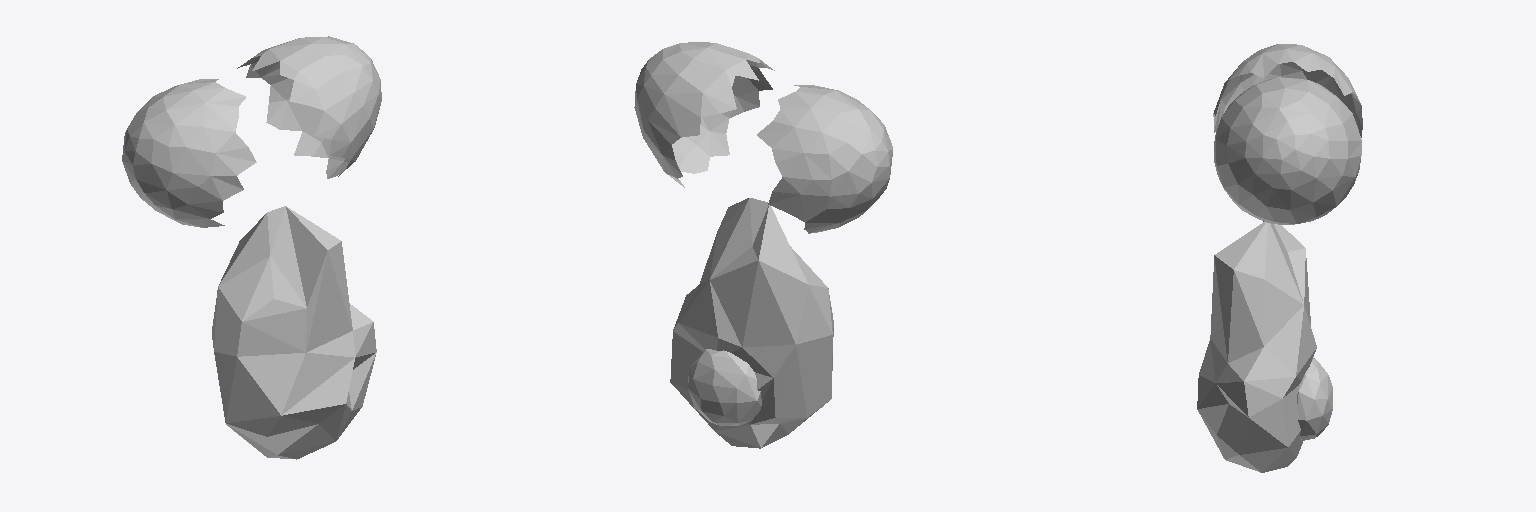
File: crackedegg.obj
3 views of the same model, side by side, from view 1: azimuth 30°, elevation 25°; view 2: azimuth 150°, elevation 25°; view 3: azimuth 270°, elevation 25° (orthographic).
Parts seen in each view (by area): view 1: Sphere.004, Sphere.002; view 2: Sphere.002, Sphere.004, Sphere.003; view 3: Sphere.004, Sphere.002, Sphere.003.
Boxes of the visible parts, x1=… form: Sphere.004: x1=212, y1=206, x2=376, y2=459; Sphere.002: x1=122, y1=36, x2=381, y2=227; Sphere.002: x1=634, y1=42, x2=892, y2=233; Sphere.004: x1=670, y1=198, x2=833, y2=448; Sphere.003: x1=688, y1=349, x2=761, y2=426; Sphere.004: x1=1197, y1=221, x2=1316, y2=472; Sphere.002: x1=1213, y1=44, x2=1362, y2=224; Sphere.003: x1=1297, y1=358, x2=1332, y2=440.
Bounding box in the file's own units: 0.1011 × 0.1547 × 0.0592.